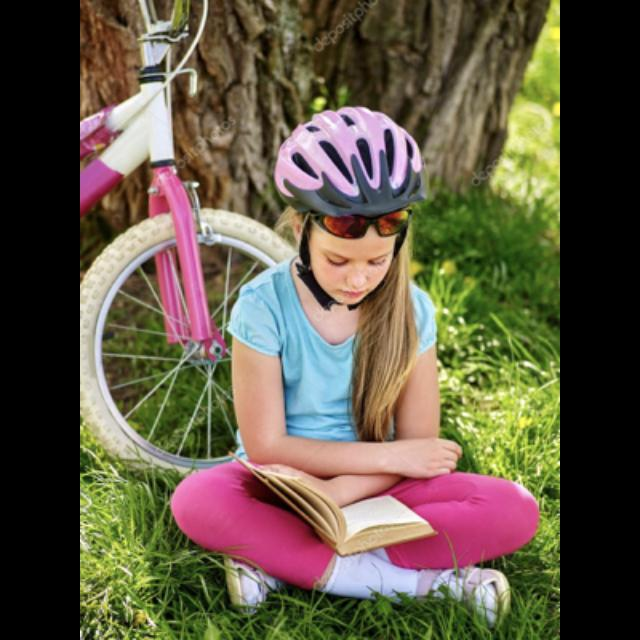With Helmet: (268, 102, 424, 312)
